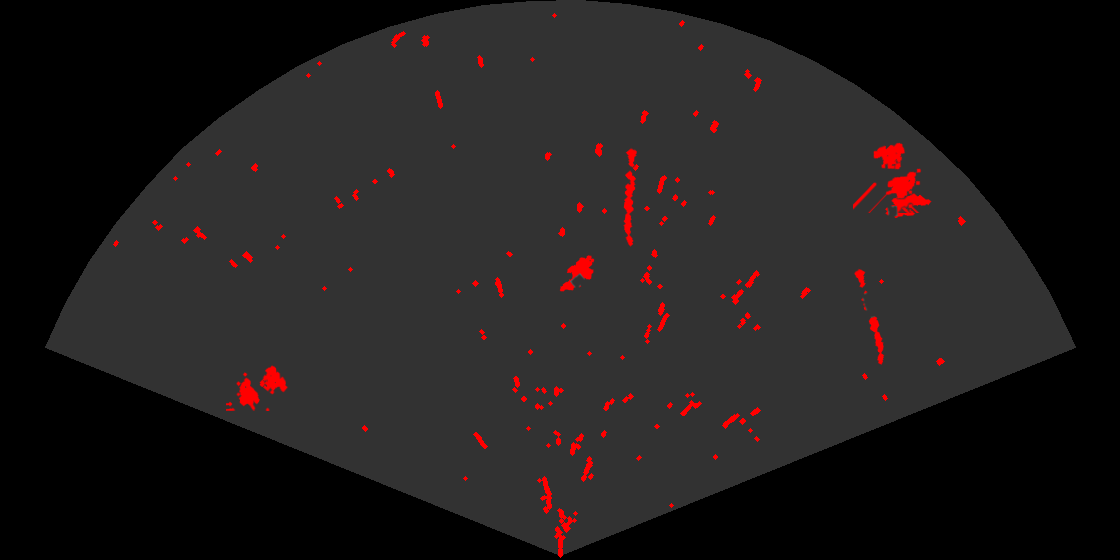AUV: (558, 254, 596, 293), (884, 192, 933, 220)
cage: (853, 141, 923, 213), (226, 364, 290, 411)
chain: (853, 267, 886, 366), (622, 146, 638, 248)
